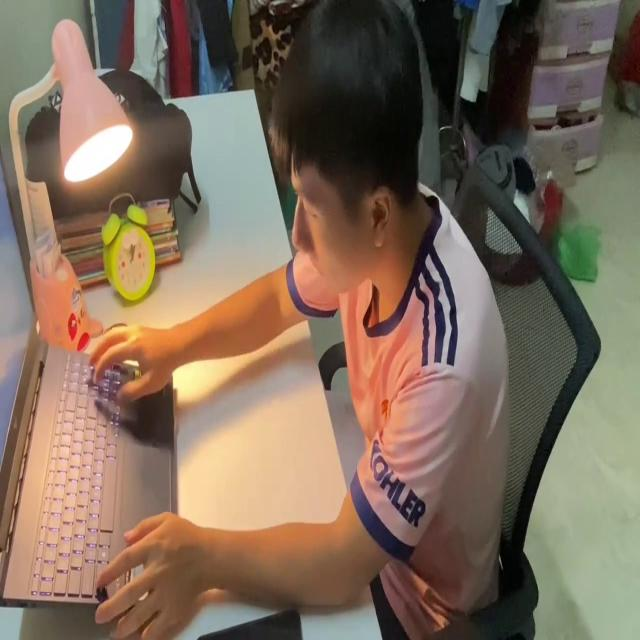book: (332, 387, 367, 484)
laptop: (0, 154, 181, 617)
phone: (198, 599, 304, 640)
student: (88, 0, 512, 640)
